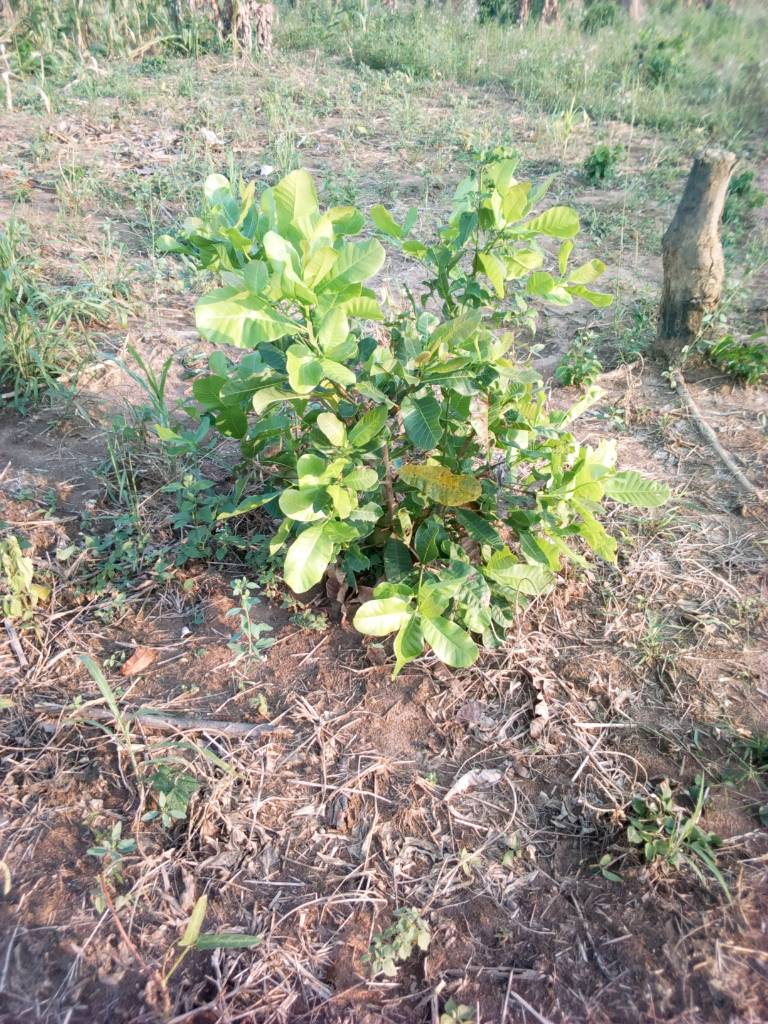Alternariose: (394, 460, 482, 510)
